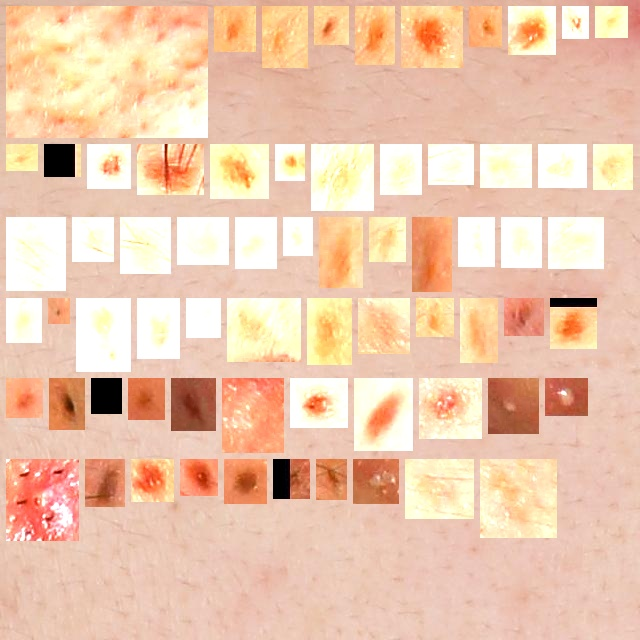hypertrophic_scar: (14, 14, 200, 130), (230, 386, 276, 445)
melasma: (488, 467, 549, 530), (235, 306, 293, 354), (14, 225, 58, 283), (319, 152, 366, 203), (413, 467, 466, 511), (84, 306, 123, 364), (409, 14, 455, 60), (327, 225, 355, 280), (315, 306, 344, 357), (556, 225, 596, 261), (366, 306, 402, 346), (128, 225, 163, 266), (420, 225, 444, 284), (270, 14, 300, 60), (145, 306, 172, 351), (185, 225, 221, 257), (468, 306, 490, 355), (363, 14, 387, 57), (488, 152, 524, 180), (243, 225, 269, 261), (546, 152, 579, 180), (388, 152, 414, 187), (509, 225, 534, 260), (222, 14, 248, 44), (80, 225, 106, 254), (436, 152, 466, 177), (601, 152, 625, 182), (466, 225, 487, 259), (377, 225, 398, 254), (14, 306, 34, 335), (424, 306, 446, 329), (194, 306, 213, 330), (477, 14, 494, 39), (291, 225, 305, 248), (603, 14, 620, 30), (14, 152, 30, 163)
nevus: (362, 386, 405, 443), (427, 386, 474, 431), (145, 152, 196, 187), (218, 152, 261, 191), (298, 386, 340, 420), (558, 306, 589, 341), (179, 386, 208, 423), (516, 14, 548, 47), (95, 152, 123, 181), (232, 467, 259, 496), (93, 467, 117, 499), (139, 467, 166, 494), (57, 386, 77, 422), (136, 386, 157, 412), (512, 306, 536, 328), (14, 386, 35, 410), (281, 467, 302, 491), (188, 467, 210, 488), (322, 14, 341, 37), (324, 467, 339, 492), (52, 152, 73, 169), (99, 386, 114, 406), (283, 152, 297, 173), (570, 14, 581, 31), (56, 306, 62, 316)
pustule: (14, 467, 71, 533), (496, 386, 531, 426), (361, 467, 391, 496), (553, 386, 580, 408)
